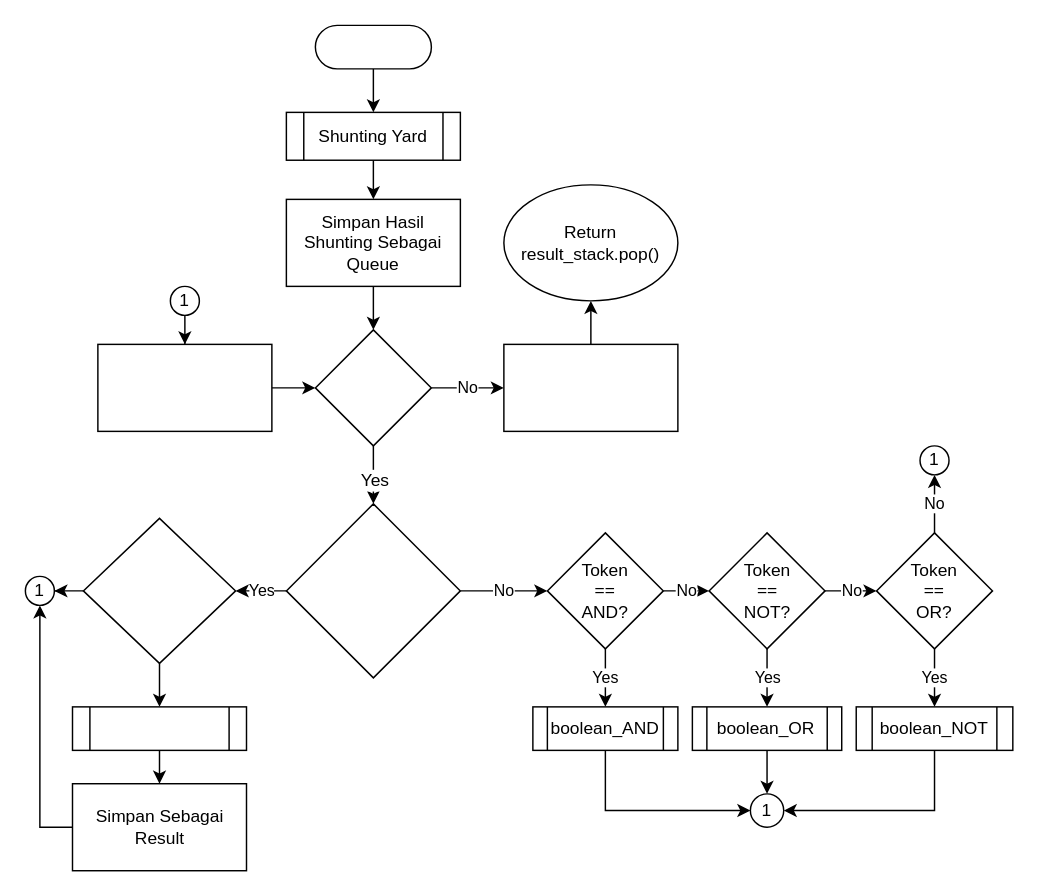
Some shapes in this 1038 by 896 pixel diagram are drawn without their labels. Each missing label, with the centre of its shape:
Ada Queue?: the point at 372,387
Cek Error: the point at 590,387
Load Posting List: the point at 158,727
Masukkan result ke result_stack: the point at 184,387
MULAI: the point at 372,46
Queue ada di Dictionary?: the point at 159,590
Token != AND || OR || NOT ?: the point at 372,590
